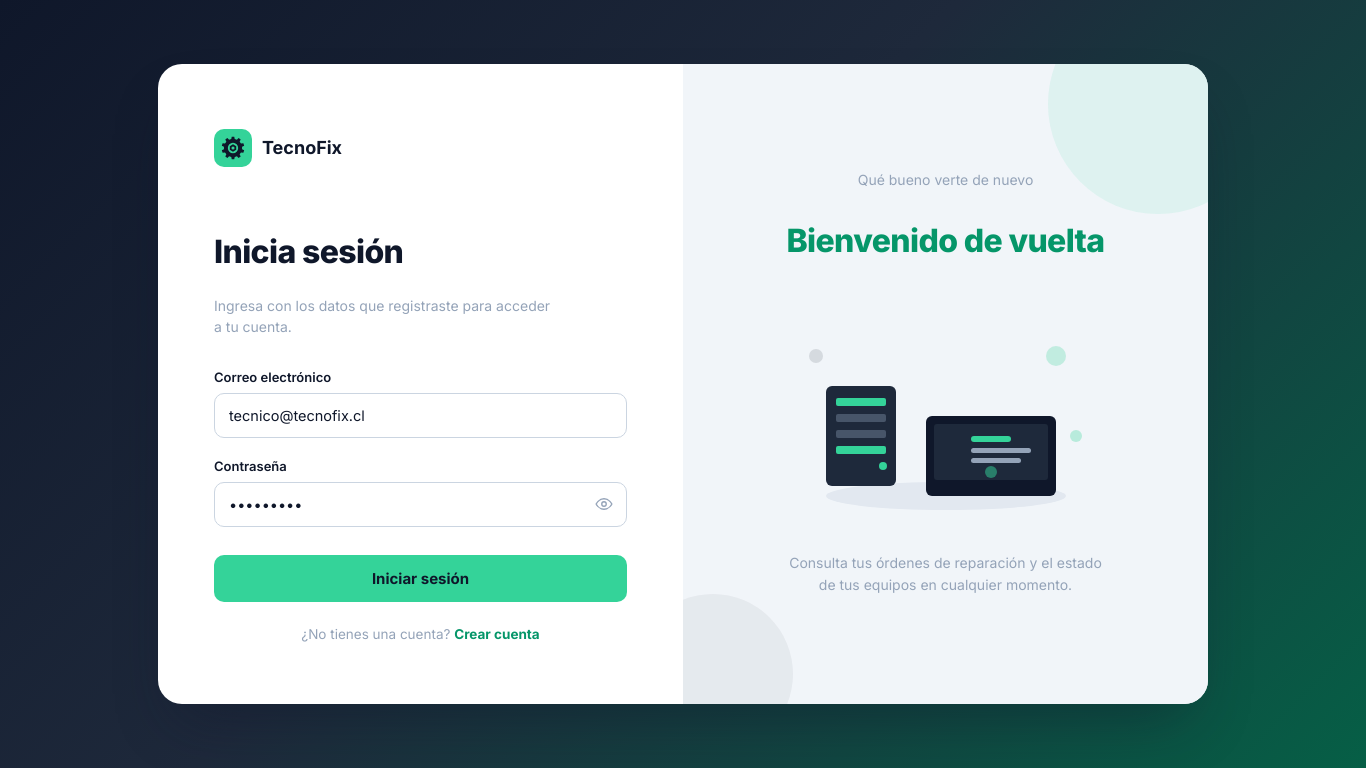
Scenario: ORD-002 en el frontend › abre la orden, la pasa a En diagnóstico y calcula el total
Earlier steps of the test are not shown.
Step 1. Submit the form, box [214, 369, 627, 602]
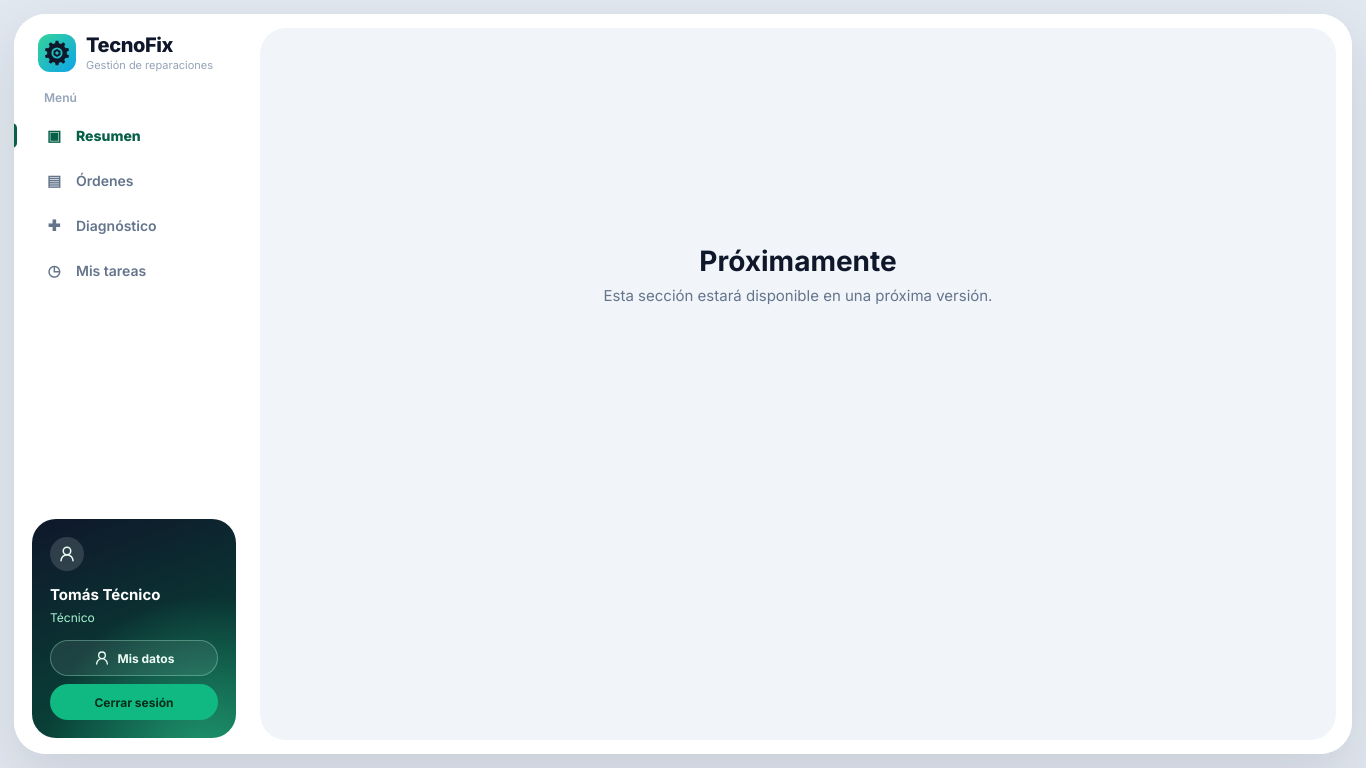
Step 2. Click the button "✚ Diagnóstico" → (134, 226), box [32, 205, 236, 246]
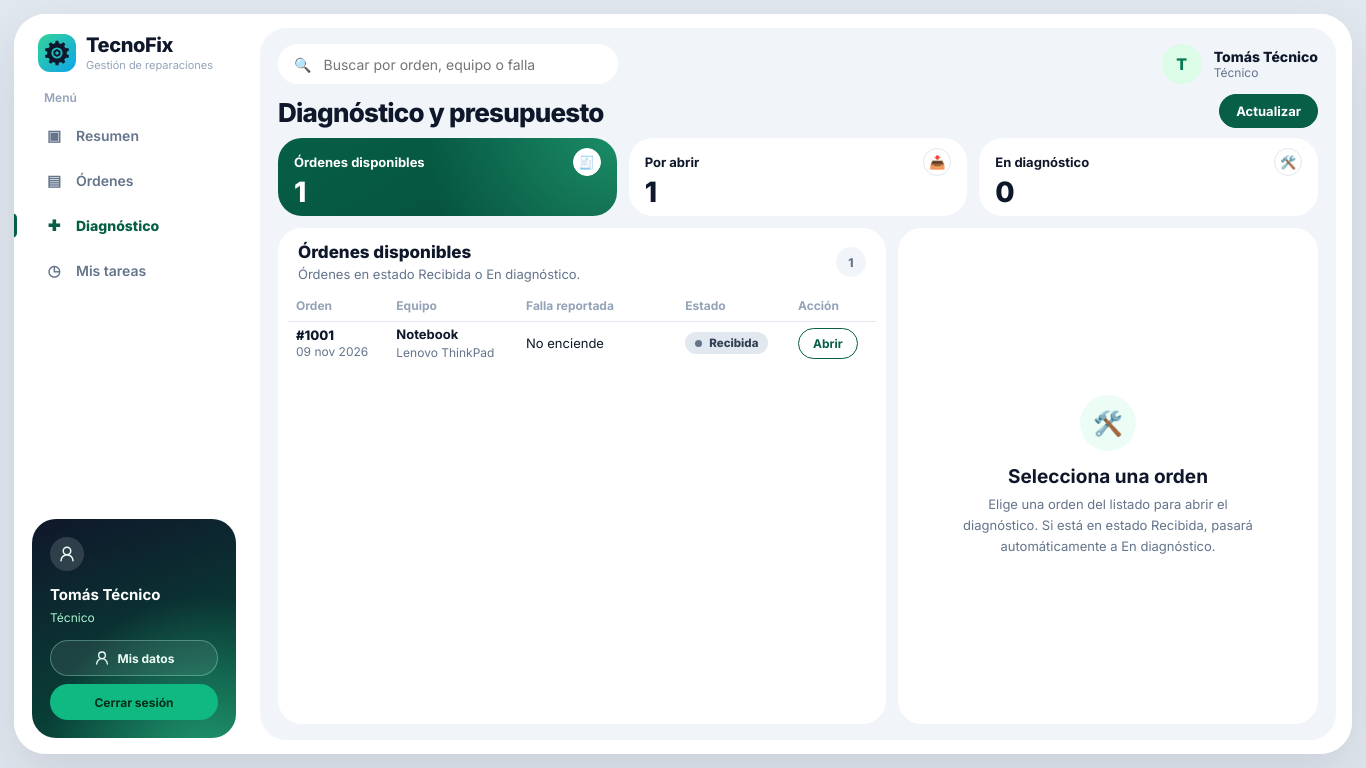
expect the text "Recibida" is shown: met, box [685, 332, 768, 354]
Step 3. Click the button "Abrir" → (828, 343), box [798, 328, 858, 359]
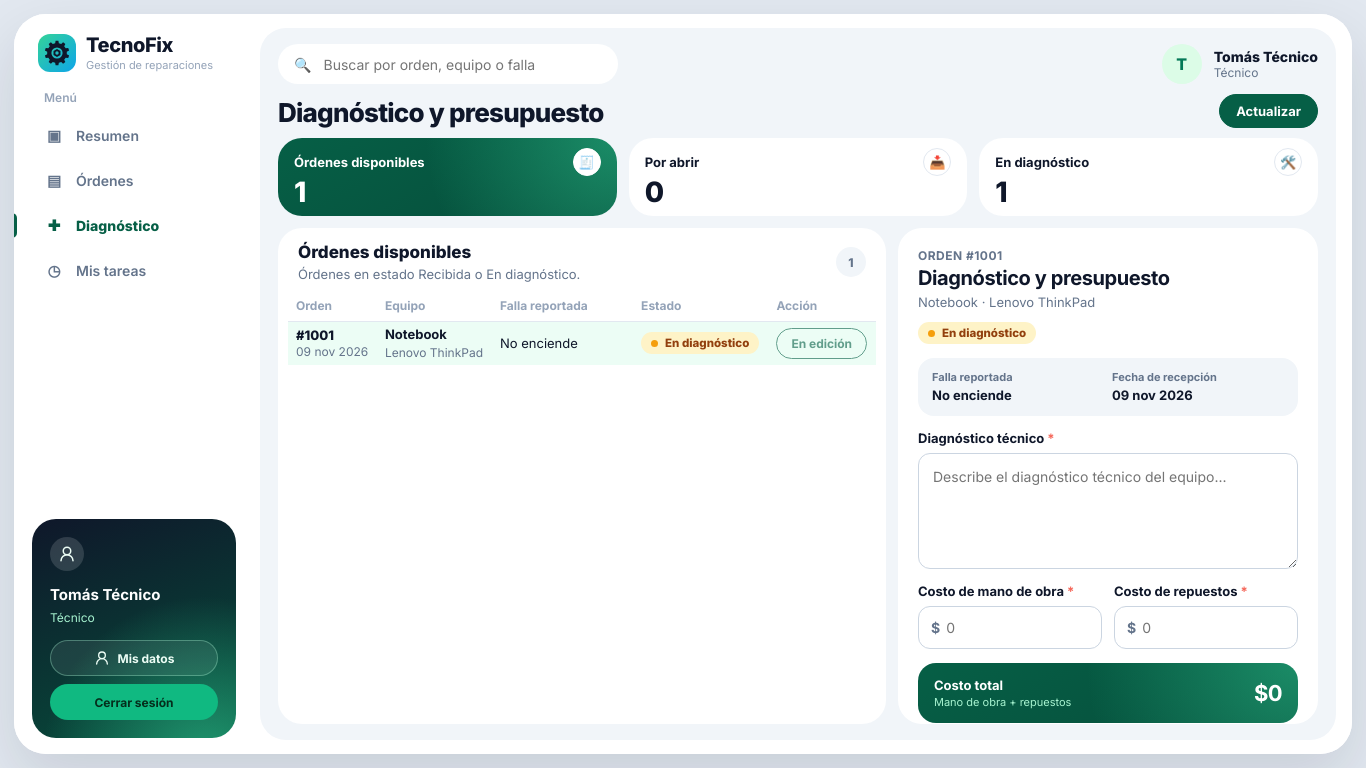
expect the text "En diagnóstico" is shown: met, box [641, 332, 759, 354]
Step 4. Type "Limpieza interna y cambio de pasta térmica." into the text box labelled "Diagnóstico técnico *" → (1108, 511), box [918, 453, 1298, 569]
Step 5. Type "25000" into the number field labelled "Costo de mano de obra *" → (1021, 628), box [940, 607, 1101, 648]
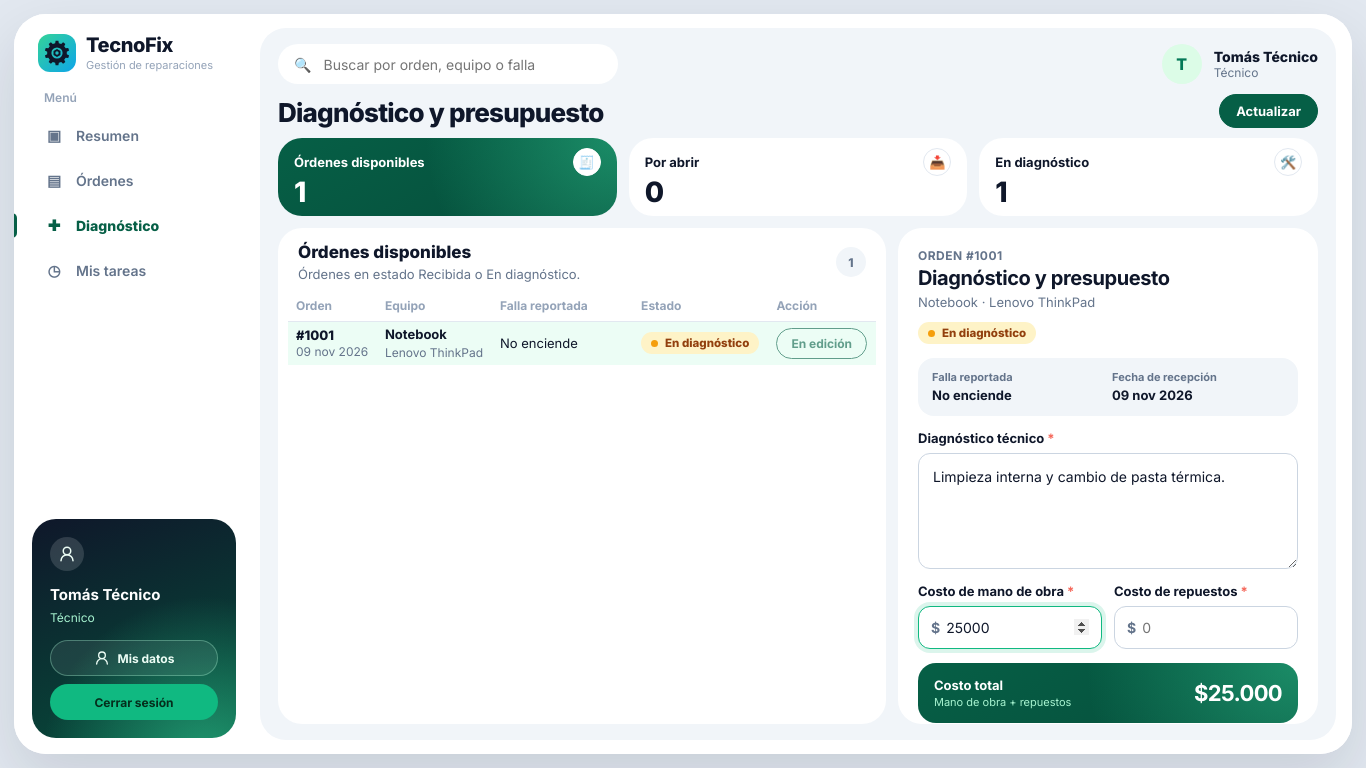
Step 6. Type "15000" into the number field labelled "Costo de repuestos *" → (1217, 628), box [1136, 607, 1297, 648]
(page scrolled)
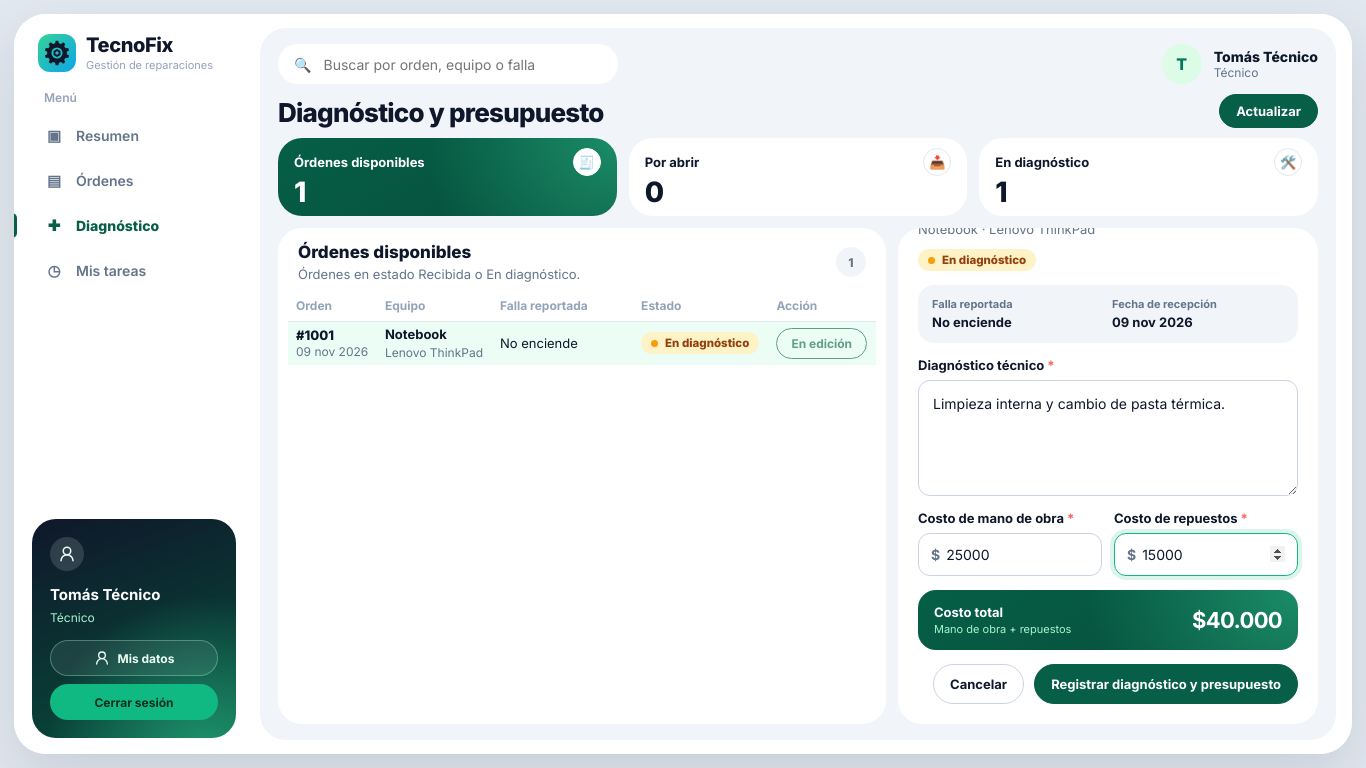
Step 7. Click the button "Registrar diagnóstico y presupuesto" → (1166, 684), box [1034, 664, 1298, 704]
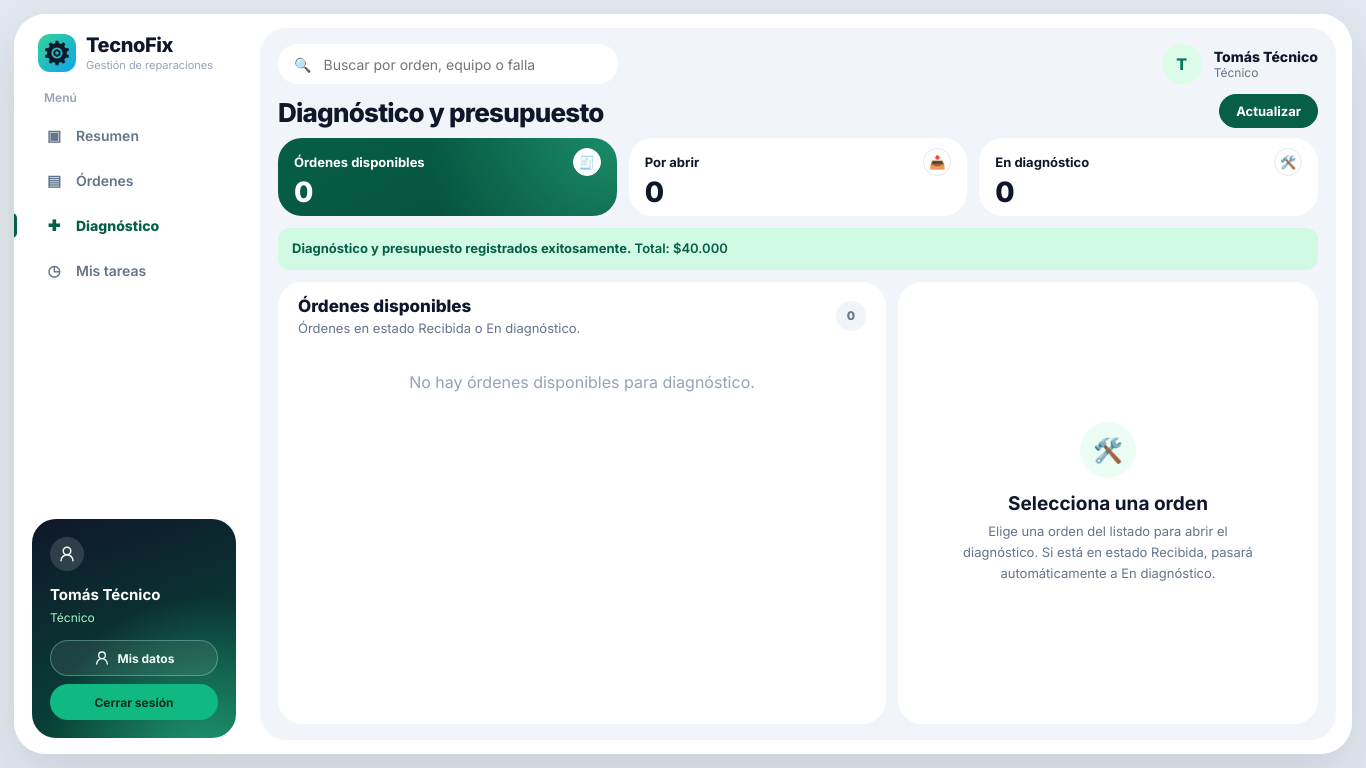
expect the message shows "Diagnóstico y presupuesto registrados exitosamente.": met, box [292, 240, 631, 256]
